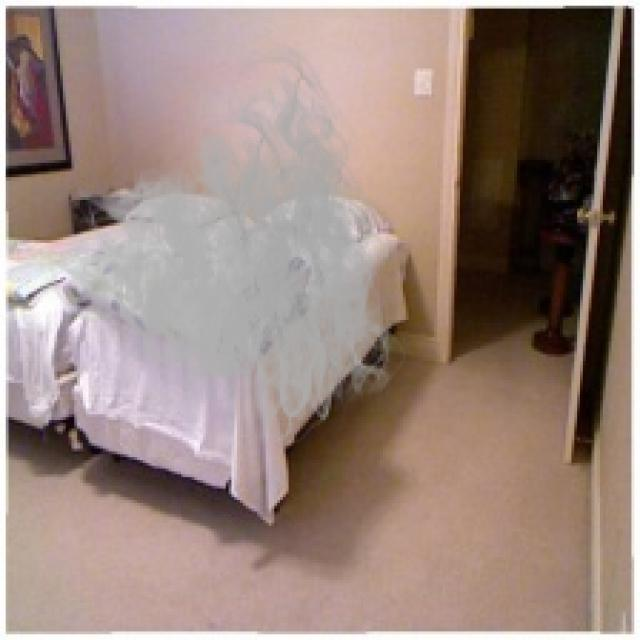Smoke: (39, 40, 414, 457)
